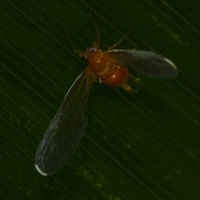insect: (35, 33, 176, 175)
